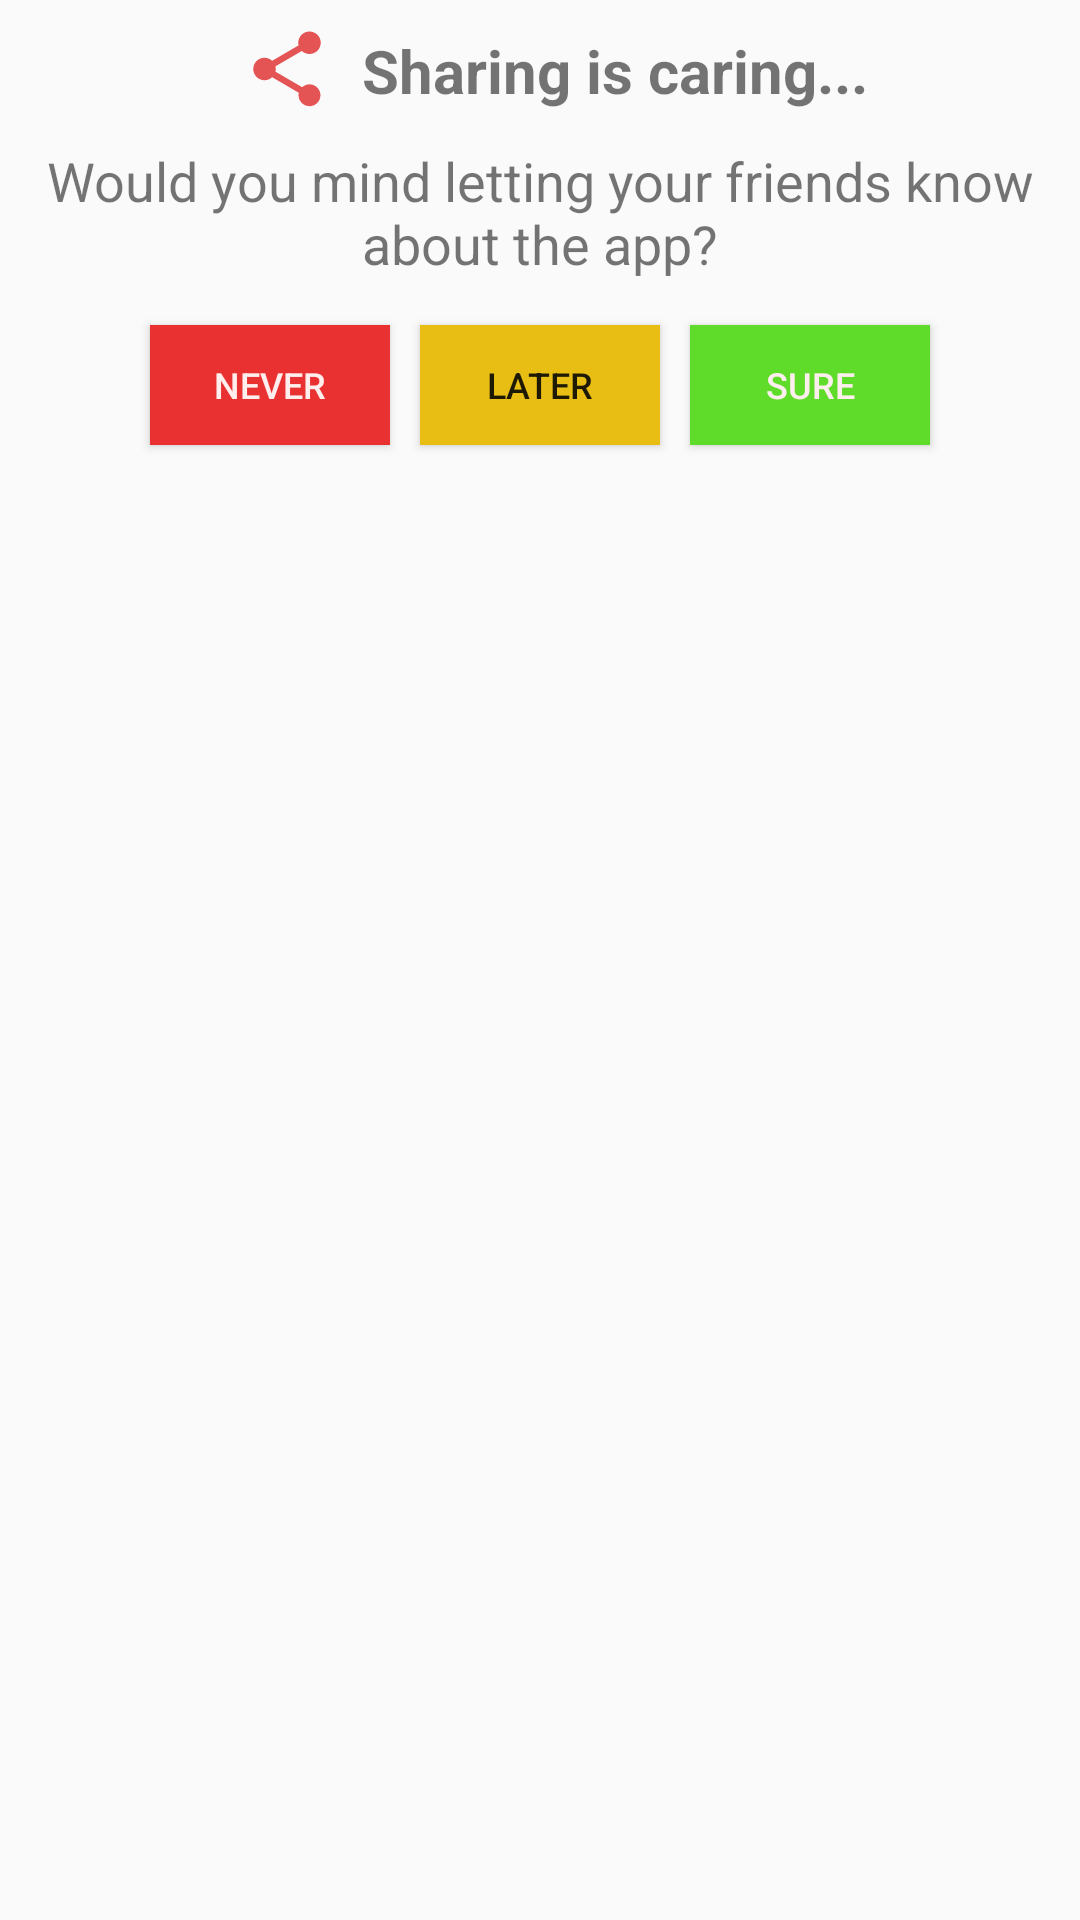

Icons on this 1080x1920 Android screen, each with its box as bbox=[x1, y1, x2, y2]:
share: bbox=[253, 31, 321, 107]
